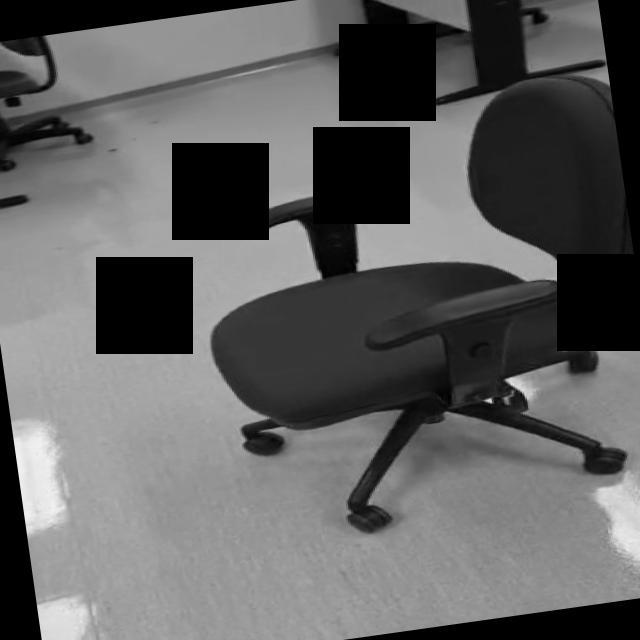chair: (178, 67, 640, 550)
